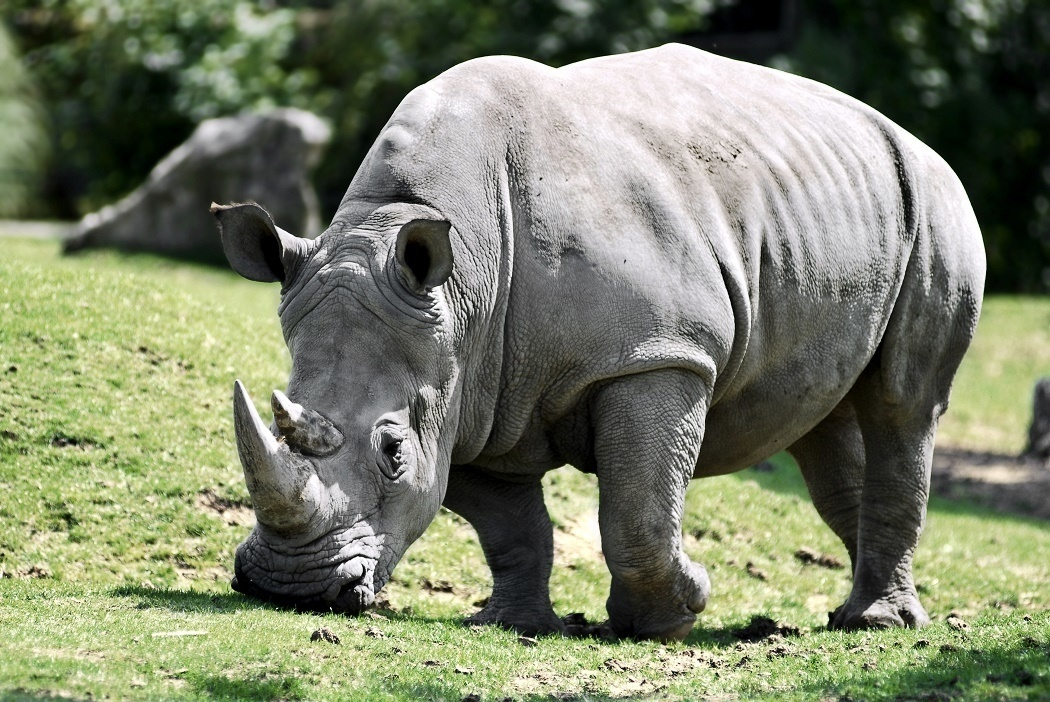rhino: (208, 41, 988, 636)
